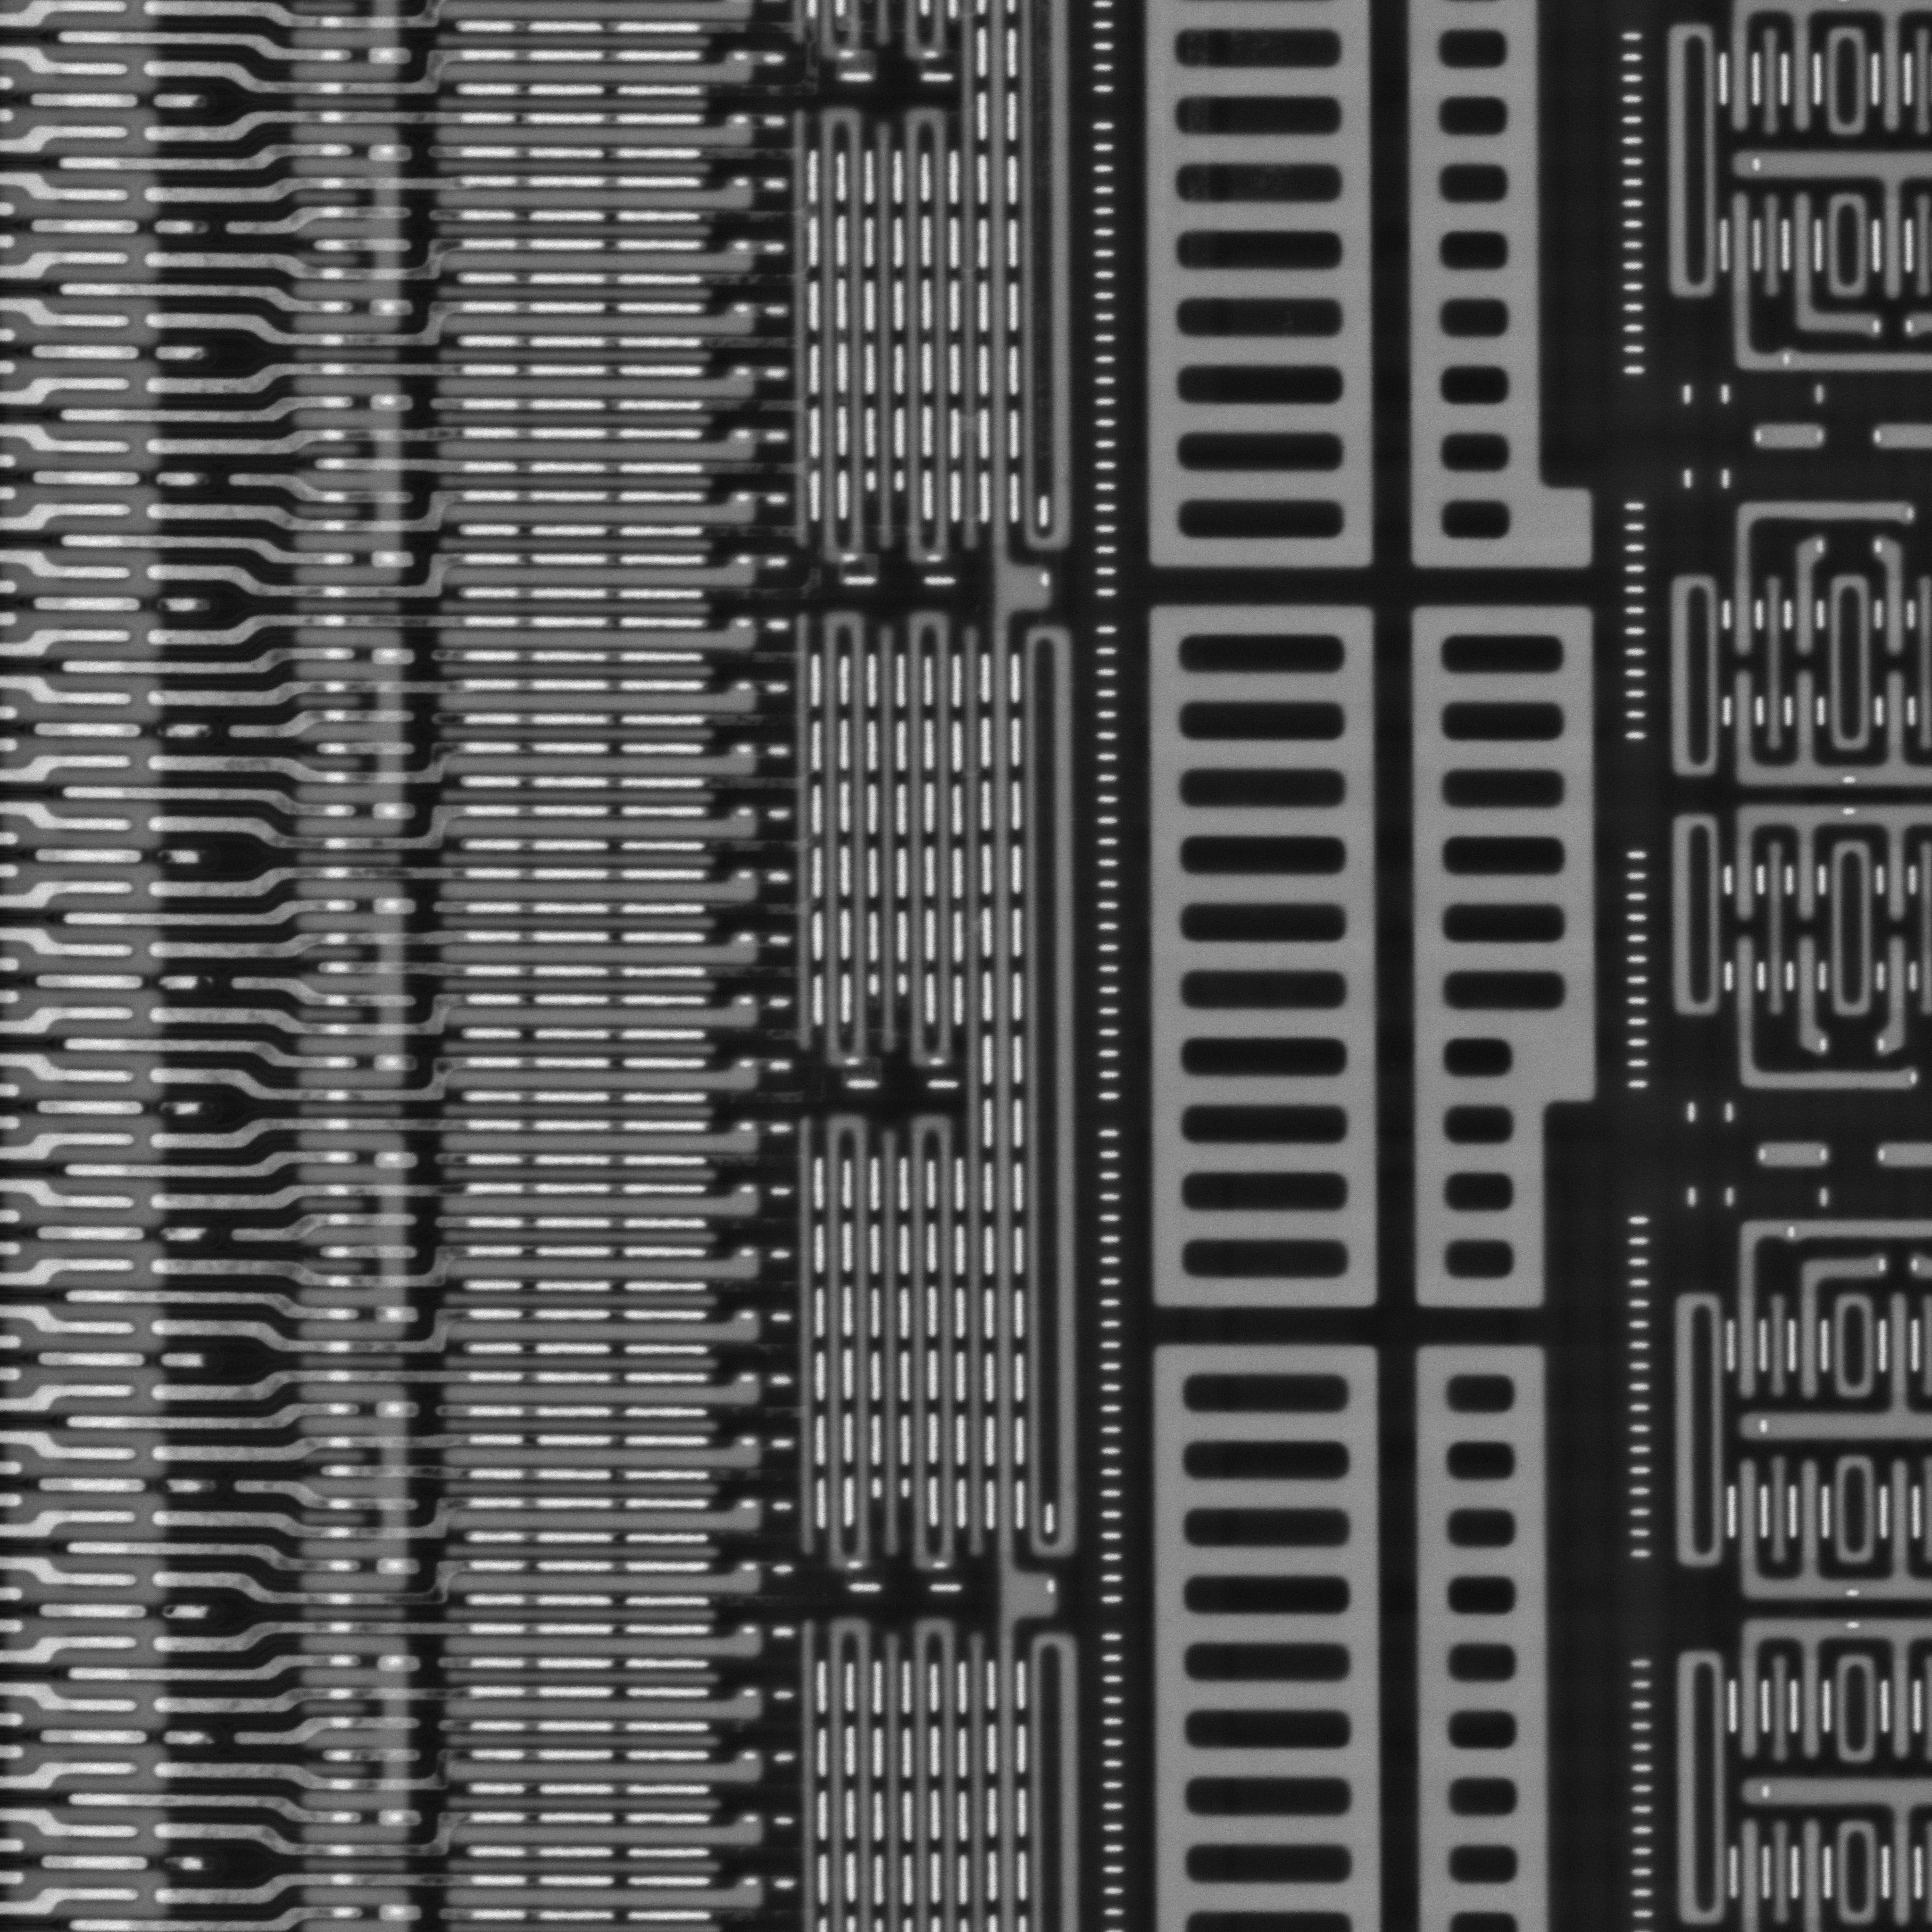doubleGate: (890, 104, 961, 566), (816, 1109, 885, 1575), (807, 108, 876, 568), (902, 605, 968, 1070), (902, 1109, 968, 1569), (812, 607, 878, 1063)
insideDummy: (1148, 603, 1382, 1313), (1146, 4, 1389, 579), (1410, 607, 1606, 1315), (1154, 1341, 1387, 1927), (1407, 2, 1594, 579), (1419, 1348, 1553, 1930)
resistor: (1757, 1145, 1835, 1175)
singleGate: (437, 1115, 768, 1166), (1780, 189, 1888, 340), (1783, 1253, 1890, 1398), (435, 1375, 764, 1421), (441, 237, 761, 283), (432, 430, 763, 474), (435, 743, 764, 787), (441, 1752, 771, 1792), (1783, 525, 1831, 662), (1867, 536, 1920, 658), (1783, 932, 1833, 1056), (1877, 932, 1918, 1056)
